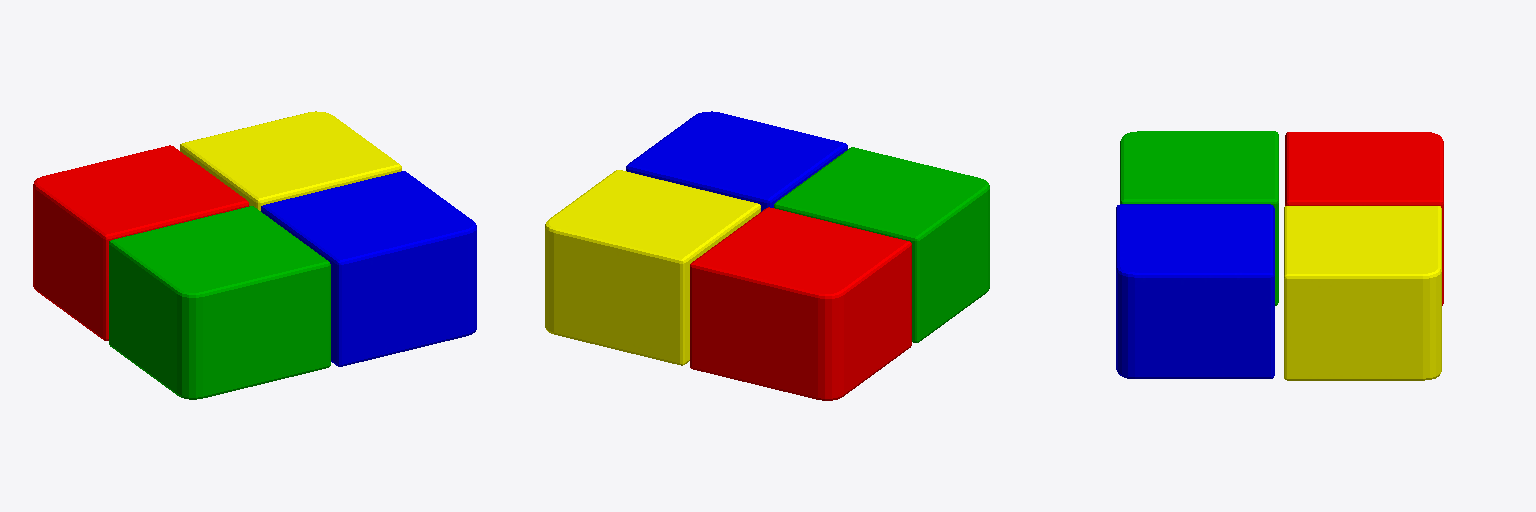
The picture shows the model from 3 angles: view 1: azimuth 30°, elevation 25°; view 2: azimuth 150°, elevation 25°; view 3: azimuth 270°, elevation 25°; orthographic projection.
Visible parts, largest first — view 1: briks.003; view 2: briks.003; view 3: briks.003.
Boxes of the visible parts, box(x1,y1,x2,y2) form: briks.003: box(33, 111, 476, 399); briks.003: box(545, 111, 989, 400); briks.003: box(1116, 131, 1443, 380).
Size of the model in its own units: 2.25 by 0.7663 by 2.14.
4 materials, 1 textured.